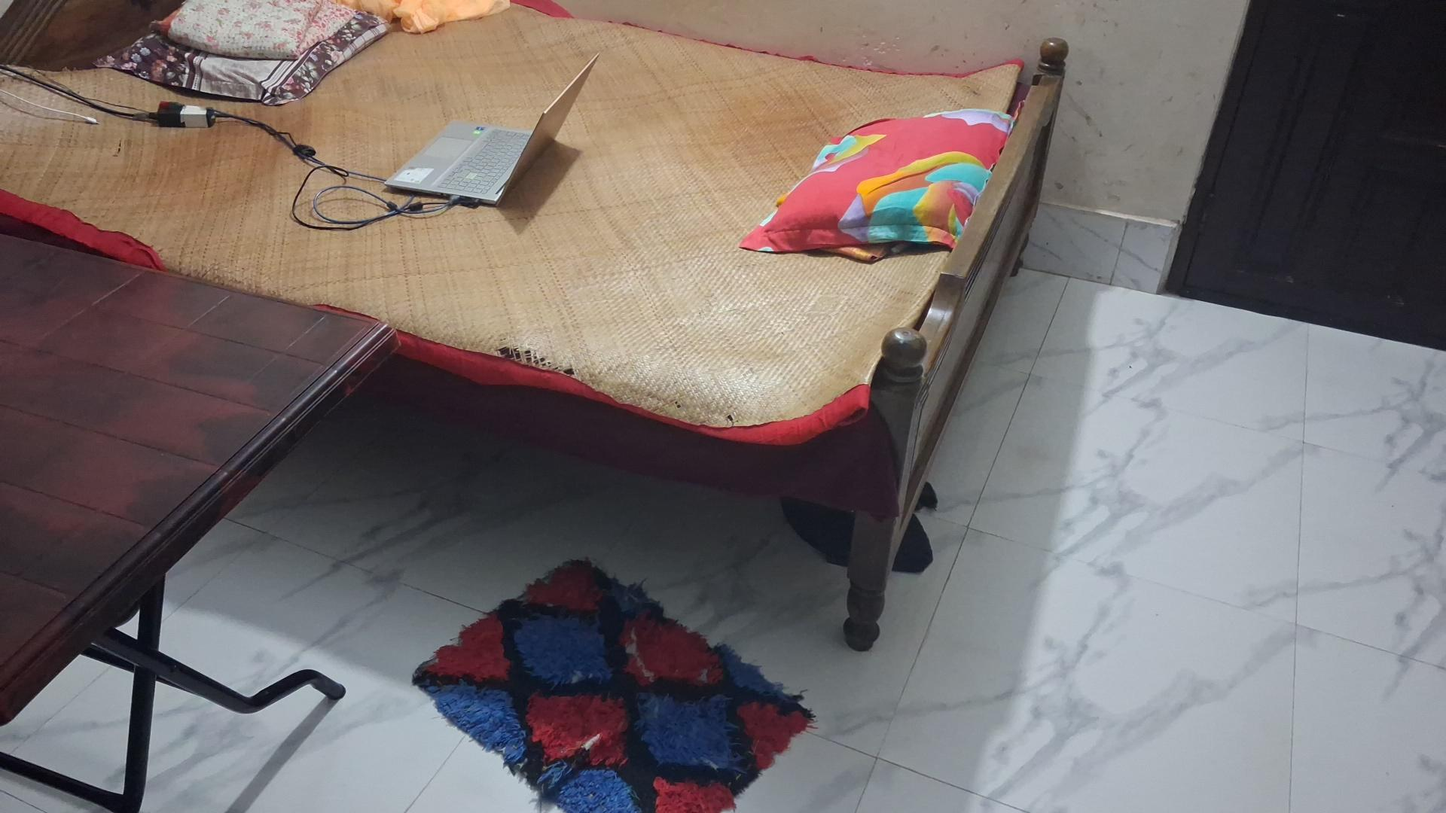Floor Mat: (408, 558, 817, 813)
Laptop: (384, 55, 599, 207)
Pillow: (741, 111, 1018, 264)
Table: (2, 221, 396, 813)
